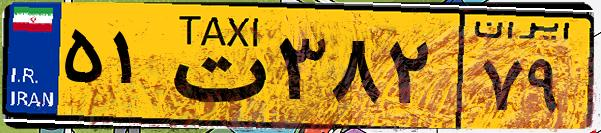1: (110, 28, 158, 98)
2: (385, 28, 445, 110)
3: (270, 28, 330, 110)
5: (57, 26, 110, 100)
7: (475, 38, 525, 113)
8: (330, 28, 385, 110)
9: (525, 38, 570, 115)
ت: (158, 12, 270, 120)
